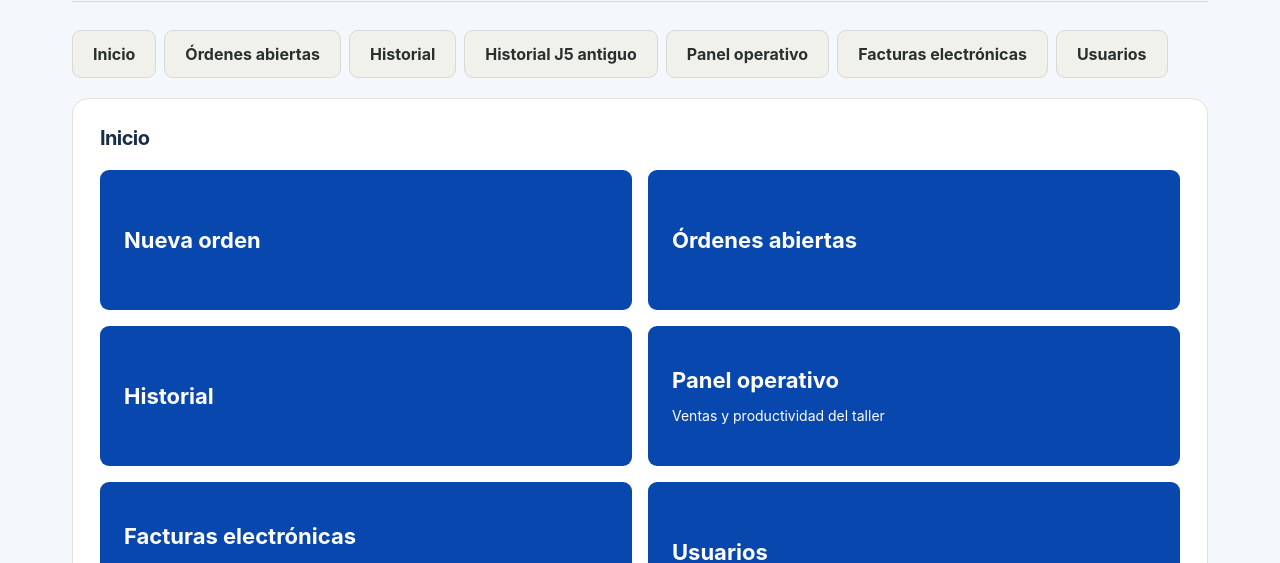
Test case: shows the assigned mechanic on an existing historical draft in the open list
Click the 1st button "Órdenes abiertas": (253, 54) left=164, top=30, right=341, bottom=78
(page scrolled)
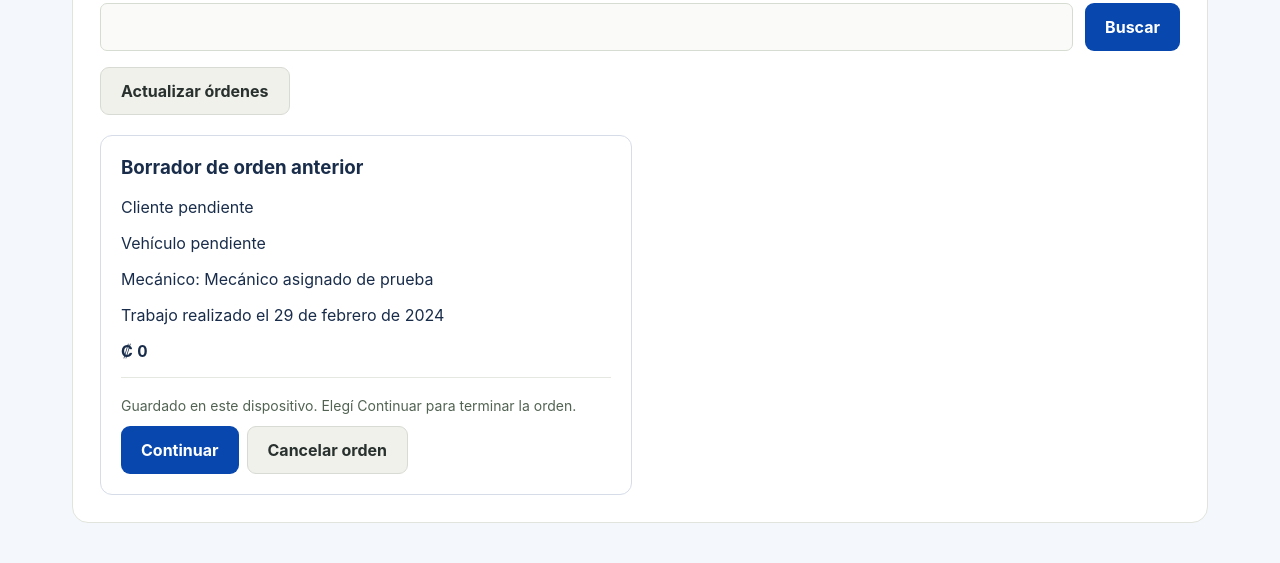
Result: the element with class "order-card" shows "Mecánico: Mecánico asignado de prueba" at left=100, top=135, right=632, bottom=495
Result: the element with class "order-card" shows "Borrador de orden anterior" at left=121, top=156, right=363, bottom=179
Result: the element with class "order-card" shows "Elegí Continuar para terminar la orden." at left=121, top=397, right=576, bottom=414
